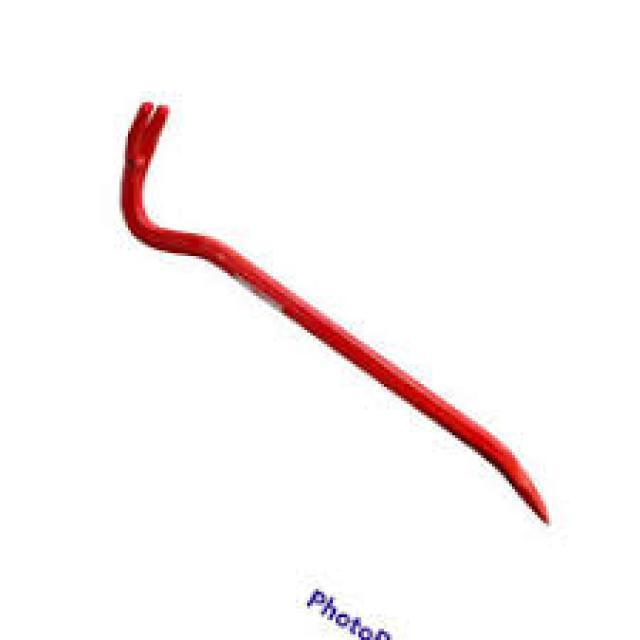Linggis: (118, 102, 568, 540)
